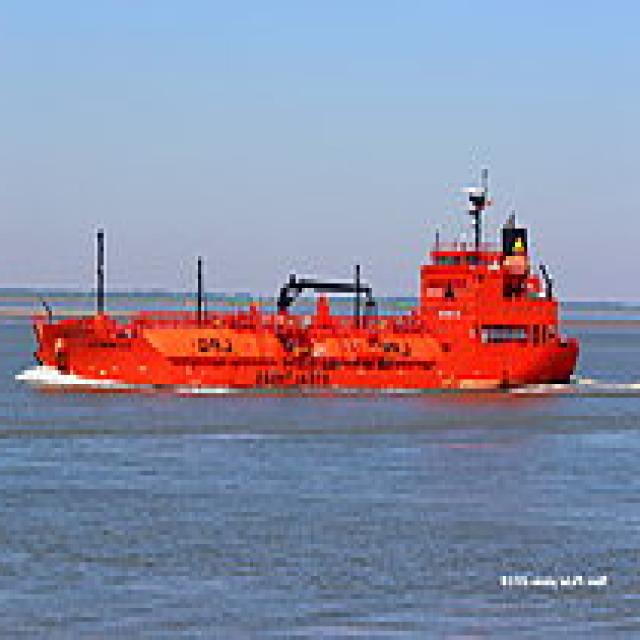Tanker: (28, 160, 588, 393)
